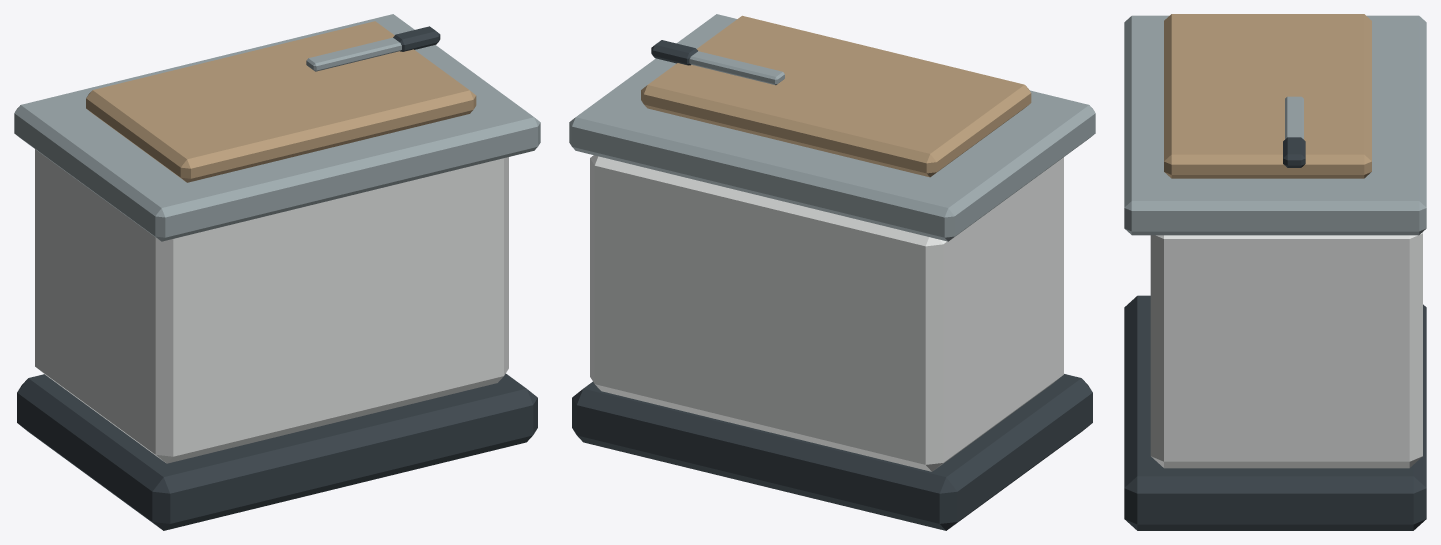
The model's file is ChoppingStation.glb.
3 views of the same model, side by side, from view 1: azimuth 30°, elevation 25°; view 2: azimuth 150°, elevation 25°; view 3: azimuth 270°, elevation 25° (orthographic).
Visible parts, largest first — view 1: Cabinet.001, Plinth.001, Board, Top.001, Blade, Handle; view 2: Cabinet.001, Top.001, Board, Plinth.001, Blade, Handle; view 3: Cabinet.001, Top.001, Board, Plinth.001, Blade, Handle.
Boxes of the visible parts, x1=… form: Cabinet.001: x1=35, y1=149, x2=508, y2=463; Plinth.001: x1=17, y1=373, x2=537, y2=530; Board: x1=86, y1=21, x2=476, y2=182; Top.001: x1=14, y1=14, x2=540, y2=241; Blade: x1=306, y1=37, x2=401, y2=71; Handle: x1=393, y1=26, x2=440, y2=51; Cabinet.001: x1=590, y1=155, x2=1063, y2=471; Top.001: x1=569, y1=14, x2=1095, y2=241; Board: x1=641, y1=15, x2=1031, y2=177; Plinth.001: x1=572, y1=374, x2=1092, y2=530; Blade: x1=689, y1=51, x2=784, y2=85; Handle: x1=651, y1=40, x2=697, y2=65; Cabinet.001: x1=1150, y1=232, x2=1422, y2=468; Top.001: x1=1124, y1=15, x2=1426, y2=235; Board: x1=1164, y1=14, x2=1371, y2=178; Plinth.001: x1=1124, y1=295, x2=1426, y2=530; Blade: x1=1285, y1=96, x2=1303, y2=139; Handle: x1=1283, y1=137, x2=1305, y2=167.
Size of the model in its own units: 1.2 by 1.07 by 0.8.
